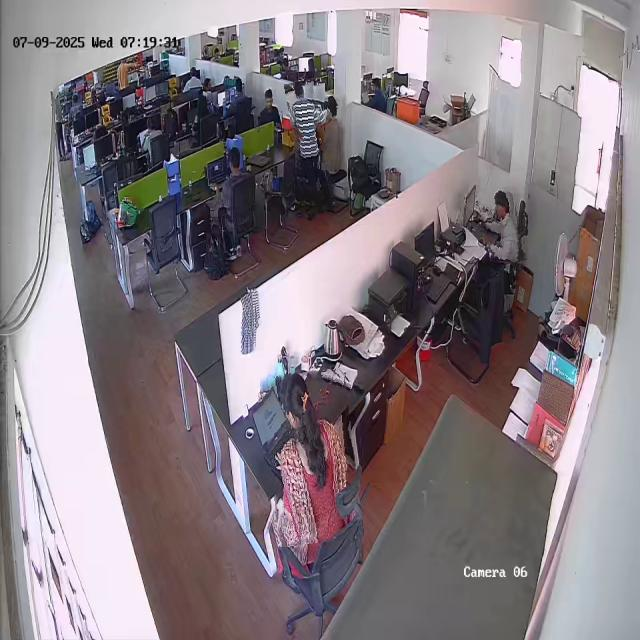person: (264, 370, 359, 545), (289, 80, 331, 214), (480, 188, 524, 266), (319, 97, 343, 171)
